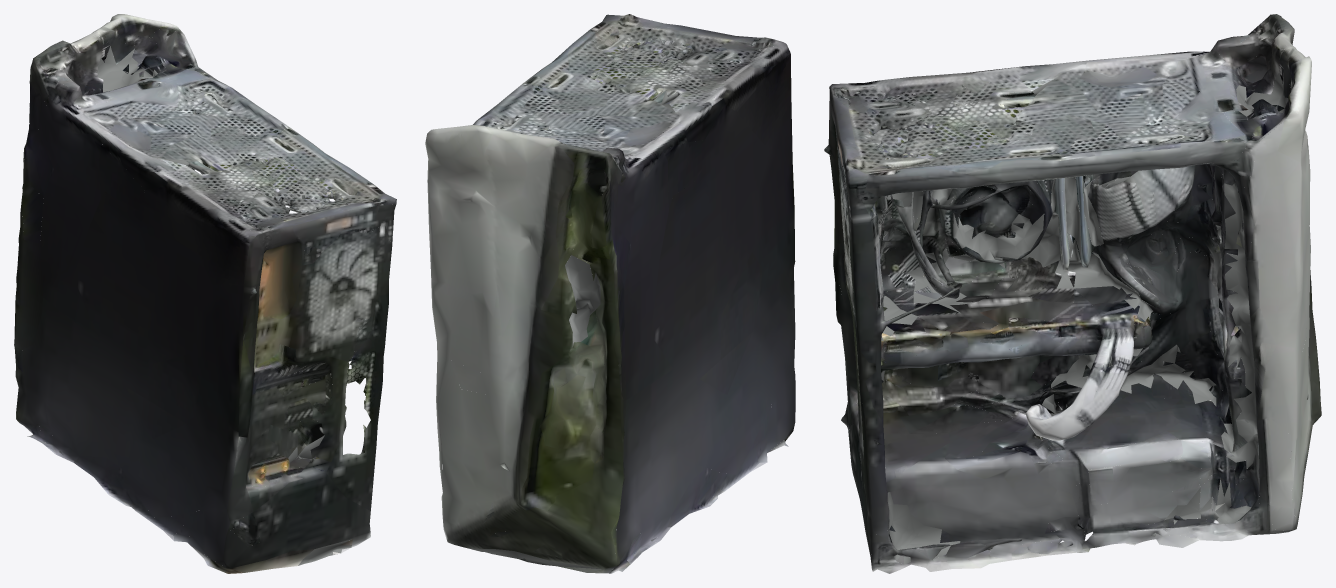
File: prorm.glb
3 views of the same model, side by side, from view 1: azimuth 30°, elevation 25°; view 2: azimuth 150°, elevation 25°; view 3: azimuth 270°, elevation 25° (orthographic). The views are drawn at different scales.
Visible parts, largest first — view 1: mesh_lowpoly_material0000.001, mesh_lowpoly_material0001.001, mesh_lowpoly_material0002.001, mesh_lowpoly_material0003.001, mesh_lowpoly_material0005.001, mesh_lowpoly_material0004.001, mesh_lowpoly_material0006.001; view 2: mesh_lowpoly_material0000.001, mesh_lowpoly_material0001.001, mesh_lowpoly_material0003.001, mesh_lowpoly_material0002.001, mesh_lowpoly_material0004.001; view 3: mesh_lowpoly_material0000.001, mesh_lowpoly_material0001.001, mesh_lowpoly_material0002.001, mesh_lowpoly_material0003.001, mesh_lowpoly_material0005.001, mesh_lowpoly_material0004.001, mesh_lowpoly_material0006.001.
Boxes of the visible parts, bbox=[...] form: mesh_lowpoly_material0000.001: bbox=[14, 14, 395, 572]; mesh_lowpoly_material0001.001: bbox=[22, 17, 396, 568]; mesh_lowpoly_material0002.001: bbox=[14, 31, 367, 573]; mesh_lowpoly_material0003.001: bbox=[16, 43, 396, 554]; mesh_lowpoly_material0005.001: bbox=[30, 17, 366, 546]; mesh_lowpoly_material0004.001: bbox=[23, 37, 367, 453]; mesh_lowpoly_material0006.001: bbox=[15, 26, 365, 545]; mesh_lowpoly_material0000.001: bbox=[425, 14, 795, 573]; mesh_lowpoly_material0001.001: bbox=[449, 15, 788, 573]; mesh_lowpoly_material0003.001: bbox=[442, 40, 771, 559]; mesh_lowpoly_material0002.001: bbox=[443, 37, 792, 564]; mesh_lowpoly_material0004.001: bbox=[439, 35, 689, 564]; mesh_lowpoly_material0000.001: bbox=[828, 14, 1321, 571]; mesh_lowpoly_material0001.001: bbox=[833, 14, 1306, 573]; mesh_lowpoly_material0002.001: bbox=[847, 26, 1297, 571]; mesh_lowpoly_material0003.001: bbox=[839, 31, 1307, 573]; mesh_lowpoly_material0005.001: bbox=[824, 47, 1301, 555]; mesh_lowpoly_material0004.001: bbox=[824, 35, 1297, 564]; mesh_lowpoly_material0006.001: bbox=[846, 35, 1291, 547].
Bounding box in the file's own units: 1.3 × 2.57 × 2.38.
8 materials, 8 textured.
